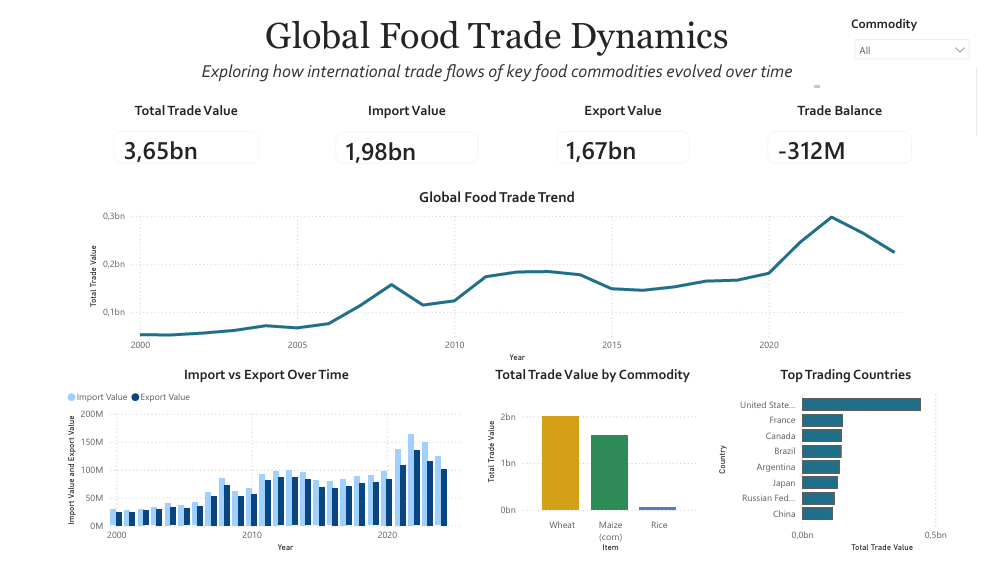

What the dashboard file says about the page in this screenshot:
{"tool":"powerbi","page":{"name":"Global_Food_Trade","canvas":[1280,720],"ordinal":4},"visuals":[{"type":"textbox","title":"Global Food Trade Dynamics ","box":[203.3,0,873.3,101.7],"z":0},{"type":"cardVisual","title":"Total Trade Value","fields":{"Data":["KPI.Total Trade Value"]},"box":[111.9,114.9,226.9,100],"z":2000},{"type":"cardVisual","title":"Import Value","fields":{"Data":["KPI.Import Value"]},"box":[408.5,116.4,223.9,98.5],"z":3000},{"type":"cardVisual","title":"Export Value","fields":{"Data":["KPI.Export Value"]},"box":[702,114.9,211.9,100],"z":4000},{"type":"cardVisual","title":"Trade Balance","fields":{"Data":["KPI.Trade Balance"]},"box":[983.6,114.9,226.9,100],"z":5000},{"type":"lineChart","title":"Global Food Trade Trend","fields":{"Category":["DimDate.Year"],"Y":["KPI.Total Trade Value"]},"box":[92.2,229.9,1095.5,237.3],"z":6000},{"type":"clusteredColumnChart","title":"Import vs Export Over Time","fields":{"Category":["DimDate.Year"],"Y":["KPI.Import Value","KPI.Export Value"]},"box":[61.7,466.7,541.7,253.3],"z":7000},{"type":"slicer","title":"Commodity","fields":{"Values":["DimCommodity.Item"]},"box":[1106.7,0,173.3,70],"z":8000},{"type":"columnChart","title":"Total Trade Value by Commodity","fields":{"Category":["DimCommodity.Item"],"Y":["KPI.Total Trade Value"]},"box":[621.7,466.7,291.7,253.3],"z":9000},{"type":"barChart","title":"Top Trading Countries","fields":{"Category":["DimCountry.Country"],"Y":["KPI.Total Trade Value"]},"box":[930,466.7,350,253.3],"z":10000}]}

Visuals, with their boxes in screenshot pixels (x1, y1, x2, y2), scaled from the page's 1280x720 canvas onto the 991x572 screenshot:
"Global Food Trade Dynamics " textbox: {"x1": 157, "y1": 0, "x2": 834, "y2": 81}
"Total Trade Value" cardVisual: {"x1": 87, "y1": 91, "x2": 262, "y2": 171}
"Import Value" cardVisual: {"x1": 316, "y1": 92, "x2": 490, "y2": 171}
"Export Value" cardVisual: {"x1": 544, "y1": 91, "x2": 708, "y2": 171}
"Trade Balance" cardVisual: {"x1": 762, "y1": 91, "x2": 937, "y2": 171}
"Global Food Trade Trend" lineChart: {"x1": 71, "y1": 183, "x2": 920, "y2": 371}
"Import vs Export Over Time" clusteredColumnChart: {"x1": 48, "y1": 371, "x2": 467, "y2": 571}
"Commodity" slicer: {"x1": 857, "y1": 0, "x2": 990, "y2": 56}
"Total Trade Value by Commodity" columnChart: {"x1": 481, "y1": 371, "x2": 707, "y2": 571}
"Top Trading Countries" barChart: {"x1": 720, "y1": 371, "x2": 990, "y2": 571}
